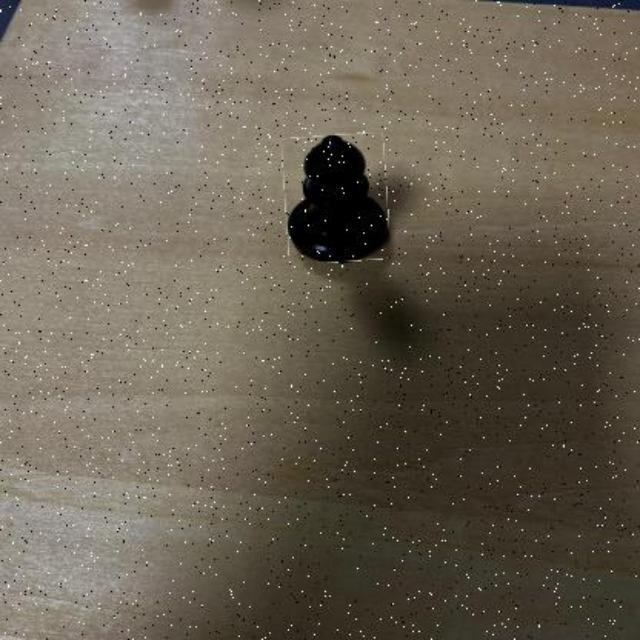black-bishop: (285, 133, 389, 262)
